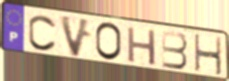B: (160, 29, 189, 70)
C: (27, 13, 58, 53)
H: (193, 33, 224, 78), (126, 25, 158, 67)
O: (94, 21, 123, 62)
V: (58, 13, 94, 59)
